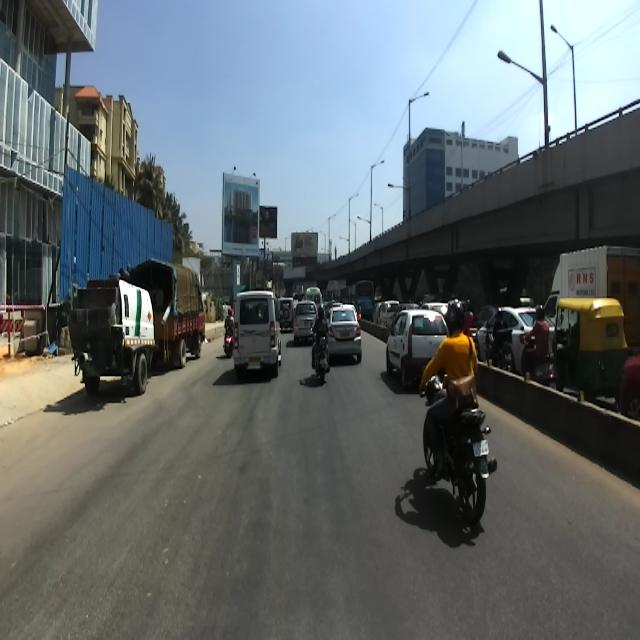car ahead at: (230, 285, 287, 394)
motorcycle ahead at: (421, 399, 498, 539)
truck ahead at: (70, 244, 208, 395)
